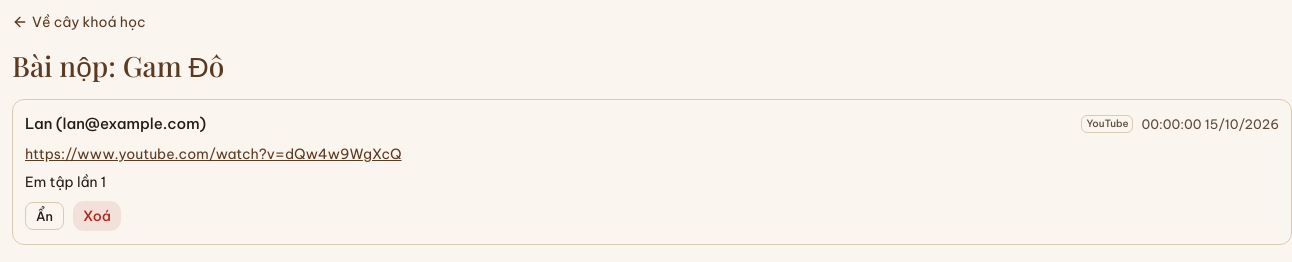
Scenario: Bài nộp của khách (C3) › PATCH trả 404 (bài nộp đã bị xoá nơi khác): hiện lỗi và tải lại danh sách
Click the button with aria-label "Ẩn bài nộp của Lan (lan@example.com)".
click(44, 216)  # box [25, 202, 64, 230]
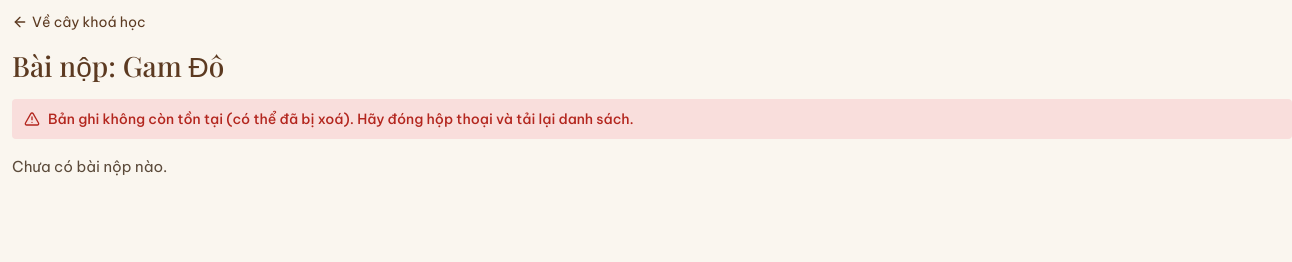
Check: the text "Chưa có bài nộp nào." is shown, box [12, 157, 167, 176]
